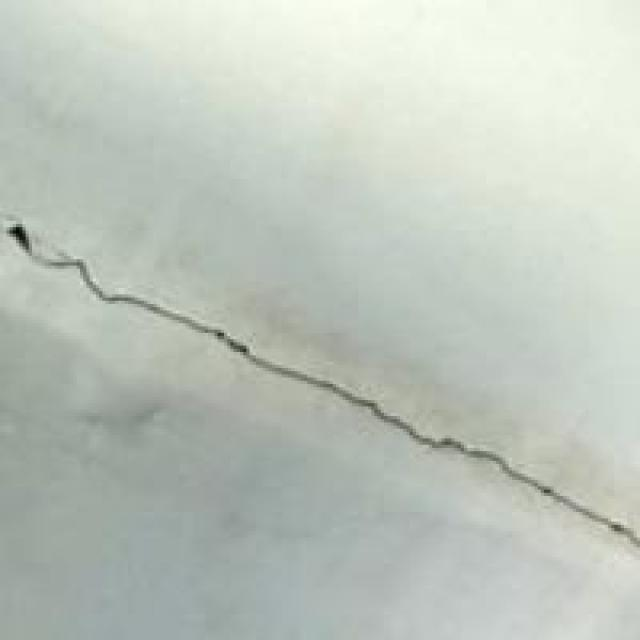crack: (0, 189, 637, 614)
